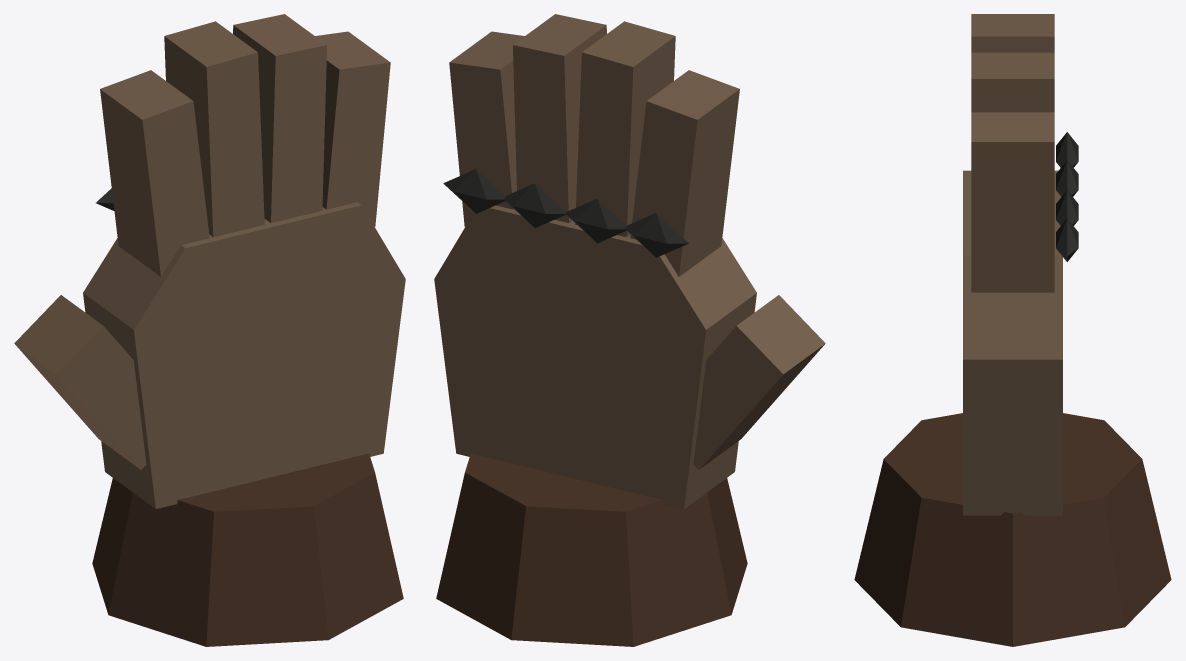
The model's file is thief_glove.obj.
3 renders of one model, left to right at view 1: azimuth 30°, elevation 25°; view 2: azimuth 150°, elevation 25°; view 3: azimuth 270°, elevation 25°, orthographic.
Visible parts, largest first — view 1: palm, cuff, finger0, finger1, finger2, thumb, finger3; view 2: palm, cuff, finger0, finger1, finger2, thumb, finger3, knuckle; view 3: cuff, palm, finger3, finger2, finger1, knuckle.
Boxes of the visible parts, <box> form: palm: <box>83,202,405,508</box>; cuff: <box>92,453,403,646</box>; finger0: <box>100,70,209,276</box>; finger1: <box>164,21,264,237</box>; finger2: <box>233,14,326,222</box>; thumb: <box>14,295,146,469</box>; finger3: <box>315,31,390,226</box>; palm: <box>434,205,756,508</box>; cuff: <box>436,453,747,646</box>; finger0: <box>630,70,739,276</box>; finger1: <box>575,21,675,237</box>; finger2: <box>513,14,606,222</box>; thumb: <box>693,295,825,469</box>; finger3: <box>449,31,524,226</box>; knuckle: <box>443,169,688,257</box>; cuff: <box>854,413,1171,646</box>; palm: <box>963,170,1062,515</box>; finger3: <box>971,112,1054,292</box>; finger2: <box>971,52,1054,112</box>; finger1: <box>971,14,1054,52</box>; knuckle: <box>1056,132,1078,261</box>.
Bounding box in the file's own units: 0.9587 × 1.42 × 0.76.
